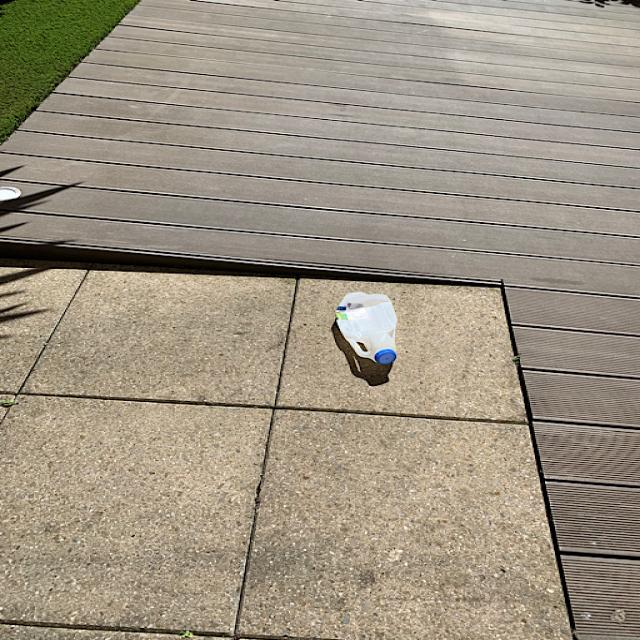litter: (331, 292, 399, 363)
